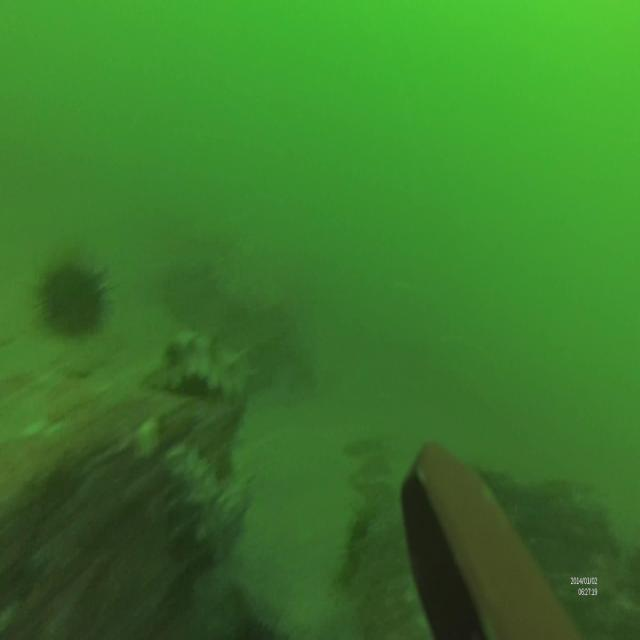echinus: (30, 256, 116, 336)
holothurian: (161, 443, 232, 569), (154, 326, 254, 403)
